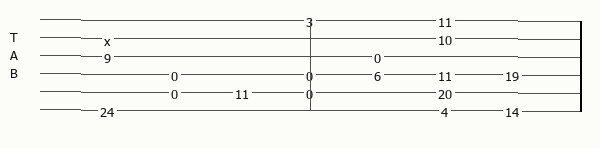0: (171, 86, 182, 99), (171, 68, 182, 81), (306, 86, 317, 99), (306, 68, 317, 81), (374, 50, 385, 63)
10: (438, 32, 456, 45)
11: (235, 86, 253, 99), (438, 14, 456, 27), (438, 68, 456, 81)
14: (505, 104, 523, 117)
19: (505, 68, 523, 81)
20: (438, 86, 456, 99)
24: (100, 104, 118, 117)
3: (306, 14, 317, 27)
4: (441, 104, 452, 117)
6: (374, 68, 385, 81)
9: (104, 50, 115, 63)
x: (104, 33, 115, 44)
